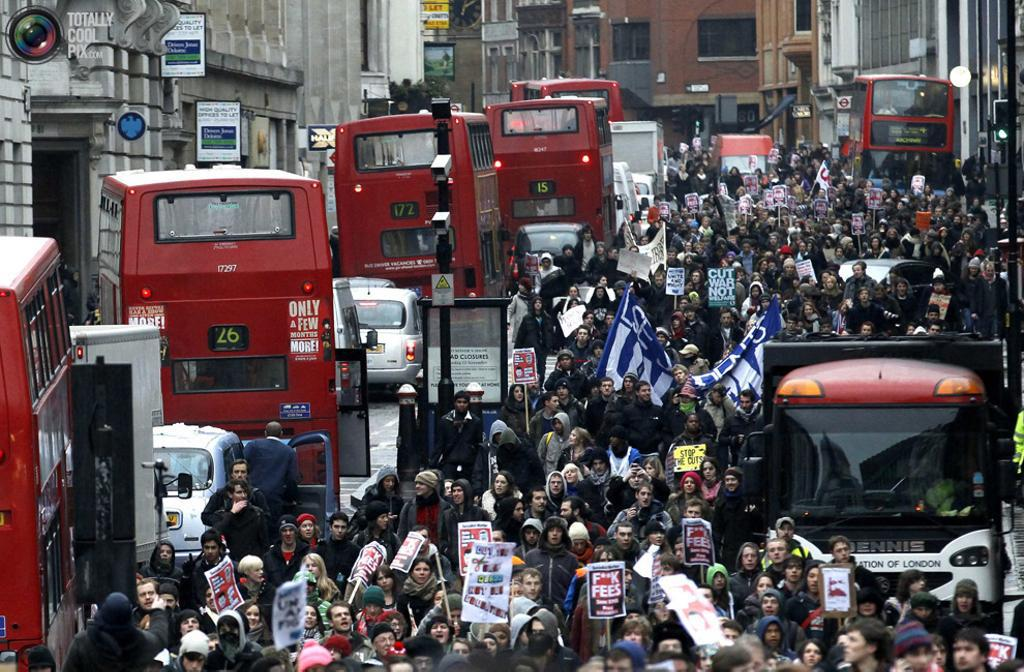face: (955, 640, 982, 671), (902, 645, 932, 672), (746, 637, 767, 671), (844, 632, 868, 660), (138, 584, 160, 609), (332, 607, 353, 633), (658, 643, 684, 664), (733, 648, 755, 672), (376, 632, 396, 657), (522, 574, 542, 599), (531, 618, 549, 645), (282, 595, 300, 621), (763, 626, 783, 648), (803, 647, 822, 669), (931, 644, 948, 668), (430, 625, 450, 645), (624, 629, 645, 648), (413, 563, 431, 585), (757, 577, 774, 600), (742, 548, 759, 570), (834, 542, 851, 564), (184, 656, 207, 672), (244, 605, 260, 627), (617, 527, 633, 549), (203, 542, 221, 561), (219, 626, 238, 644), (762, 598, 781, 616), (808, 568, 822, 592), (619, 570, 634, 592), (303, 562, 321, 580), (769, 545, 787, 563), (454, 644, 471, 663), (724, 632, 744, 648), (957, 593, 973, 613), (414, 530, 429, 551), (687, 506, 704, 524), (182, 618, 201, 634), (779, 524, 796, 541), (326, 646, 342, 664), (233, 486, 249, 504), (655, 604, 671, 622), (787, 564, 803, 582), (487, 532, 503, 550), (391, 619, 404, 641), (533, 494, 548, 513), (158, 546, 172, 566), (413, 659, 434, 672), (561, 500, 574, 521), (548, 528, 564, 545), (281, 527, 297, 544), (859, 600, 876, 616), (303, 611, 318, 629), (332, 520, 346, 539), (508, 577, 522, 596), (206, 588, 219, 608), (639, 487, 652, 507), (711, 574, 727, 590), (31, 661, 54, 672), (495, 476, 509, 494), (626, 613, 644, 627), (234, 464, 248, 482), (703, 463, 717, 481), (832, 578, 846, 596), (379, 573, 394, 589), (435, 594, 449, 611), (161, 594, 175, 611), (301, 521, 315, 538), (912, 579, 926, 596), (250, 567, 264, 583), (684, 479, 698, 495), (725, 476, 739, 492), (492, 635, 509, 648), (513, 503, 526, 520), (688, 420, 700, 438), (365, 603, 379, 618), (550, 480, 564, 495), (650, 531, 664, 546), (629, 474, 643, 489), (482, 643, 498, 656), (698, 593, 714, 606), (593, 459, 606, 475), (604, 665, 632, 672), (969, 490, 983, 504), (525, 530, 538, 545), (573, 540, 586, 555), (699, 653, 712, 668), (556, 385, 569, 400), (845, 615, 860, 628), (377, 515, 389, 531), (568, 431, 580, 447), (736, 209, 748, 225), (916, 609, 933, 620), (382, 478, 396, 491), (662, 567, 675, 581), (565, 470, 578, 484), (639, 387, 651, 402), (454, 488, 465, 504), (208, 639, 219, 655), (598, 557, 617, 566), (456, 399, 469, 412), (416, 482, 428, 496), (609, 436, 621, 450), (674, 371, 686, 385), (550, 399, 561, 414), (303, 665, 326, 672), (560, 358, 572, 371), (446, 614, 463, 623), (645, 465, 657, 477), (602, 383, 613, 396), (624, 379, 635, 392), (852, 219, 863, 232), (465, 553, 475, 567), (987, 263, 996, 278), (579, 331, 589, 344), (444, 482, 453, 496), (675, 547, 684, 561), (714, 392, 725, 403), (555, 421, 565, 433), (584, 316, 594, 328), (595, 347, 605, 359), (683, 353, 693, 365), (503, 443, 516, 452), (741, 398, 750, 411), (722, 315, 731, 328), (513, 389, 523, 400), (853, 269, 863, 280), (775, 189, 785, 200), (907, 324, 914, 339), (934, 285, 944, 295), (862, 328, 872, 338), (685, 216, 695, 226), (591, 386, 600, 397), (655, 276, 664, 287), (680, 301, 689, 312), (1003, 260, 1012, 271), (970, 265, 978, 277), (805, 304, 813, 316), (872, 193, 880, 205), (829, 209, 837, 221), (494, 434, 501, 447), (930, 313, 939, 323), (930, 328, 940, 337), (785, 266, 795, 275), (668, 253, 677, 263), (680, 224, 689, 234), (860, 293, 869, 303), (788, 322, 797, 332), (822, 326, 832, 335), (687, 311, 696, 321), (522, 635, 530, 646), (754, 273, 762, 284), (681, 396, 692, 404), (607, 317, 615, 328), (673, 319, 681, 330), (756, 206, 764, 217), (898, 285, 906, 295), (827, 281, 835, 291), (808, 279, 816, 289), (729, 253, 737, 263), (728, 235, 736, 245), (829, 191, 837, 201), (752, 288, 760, 298), (772, 298, 782, 306), (993, 257, 1001, 267), (686, 254, 693, 265), (596, 546, 607, 553), (516, 367, 523, 378), (767, 193, 774, 204), (751, 157, 758, 168), (822, 276, 830, 285), (872, 241, 880, 250), (721, 259, 729, 268), (696, 247, 705, 255), (740, 229, 748, 238), (780, 206, 788, 215), (535, 301, 543, 310), (878, 290, 886, 299), (762, 301, 770, 310), (841, 332, 849, 341), (736, 272, 744, 281), (777, 220, 785, 229), (766, 252, 774, 261), (686, 243, 693, 253), (694, 272, 701, 282), (825, 271, 836, 277), (675, 212, 681, 223), (806, 299, 817, 305), (770, 238, 778, 246), (570, 289, 578, 297), (741, 201, 749, 209), (519, 284, 526, 293), (975, 217, 982, 226), (836, 251, 843, 260), (883, 184, 892, 191), (895, 247, 902, 256), (614, 289, 621, 298), (687, 284, 694, 293), (611, 251, 618, 260), (333, 228, 340, 237), (777, 250, 784, 259), (915, 231, 921, 241), (765, 229, 773, 236), (658, 335, 666, 342), (597, 290, 604, 298), (584, 232, 591, 240), (598, 246, 605, 254), (220, 597, 227, 605), (818, 205, 825, 213), (974, 198, 980, 207), (655, 198, 661, 207), (743, 245, 752, 251), (543, 260, 549, 269), (792, 233, 799, 240), (933, 249, 940, 256), (566, 250, 573, 257), (941, 232, 948, 239), (954, 219, 961, 226), (724, 354, 731, 361), (748, 325, 755, 332), (695, 146, 702, 153), (693, 301, 700, 308), (602, 279, 608, 287), (630, 250, 638, 256), (642, 240, 650, 246), (792, 176, 797, 185), (790, 201, 795, 210), (763, 211, 767, 222), (819, 192, 825, 199), (845, 202, 852, 208), (762, 265, 768, 272), (800, 246, 806, 253), (797, 240, 803, 247), (936, 210, 942, 217), (571, 303, 578, 309), (889, 274, 895, 281), (919, 333, 925, 340), (886, 205, 892, 212), (922, 201, 928, 208), (957, 245, 963, 252), (837, 204, 843, 211), (808, 220, 814, 227), (690, 168, 696, 175), (1001, 221, 1007, 228), (682, 165, 687, 173), (681, 206, 686, 214), (690, 207, 698, 212), (904, 209, 909, 217), (796, 206, 801, 214), (1017, 226, 1022, 234), (703, 204, 709, 210), (717, 251, 723, 257), (897, 204, 903, 210), (807, 170, 813, 176), (844, 165, 850, 171), (770, 266, 776, 272), (826, 242, 832, 248), (890, 234, 896, 240), (947, 211, 953, 217), (965, 235, 971, 241), (937, 220, 943, 226), (976, 255, 982, 261), (913, 198, 919, 204), (954, 250, 960, 256), (842, 192, 848, 198), (813, 159, 819, 165), (656, 223, 662, 229), (769, 175, 775, 181), (794, 173, 799, 180), (868, 226, 873, 233), (844, 226, 849, 233), (781, 254, 786, 261), (856, 192, 861, 199), (841, 307, 848, 312), (704, 221, 709, 227), (760, 252, 765, 258), (795, 221, 800, 227), (891, 192, 896, 198), (793, 283, 799, 288), (890, 219, 895, 225), (866, 214, 871, 220), (802, 292, 806, 299), (700, 169, 705, 174), (703, 155, 708, 160), (881, 226, 886, 231), (739, 193, 744, 198), (848, 246, 853, 251), (801, 150, 806, 155), (866, 183, 872, 187), (809, 246, 813, 252), (940, 201, 944, 207), (926, 188, 930, 194), (898, 218, 902, 224), (930, 229, 934, 235), (669, 176, 673, 182), (747, 178, 751, 184), (863, 244, 868, 248), (948, 193, 953, 197), (963, 219, 967, 224), (957, 210, 961, 215), (821, 233, 825, 238), (805, 236, 809, 241), (932, 222, 936, 227), (929, 205, 932, 211), (733, 170, 737, 174), (969, 218, 973, 222), (711, 199, 714, 204), (778, 158, 781, 163), (975, 155, 978, 160), (722, 245, 725, 249), (757, 173, 760, 176)
